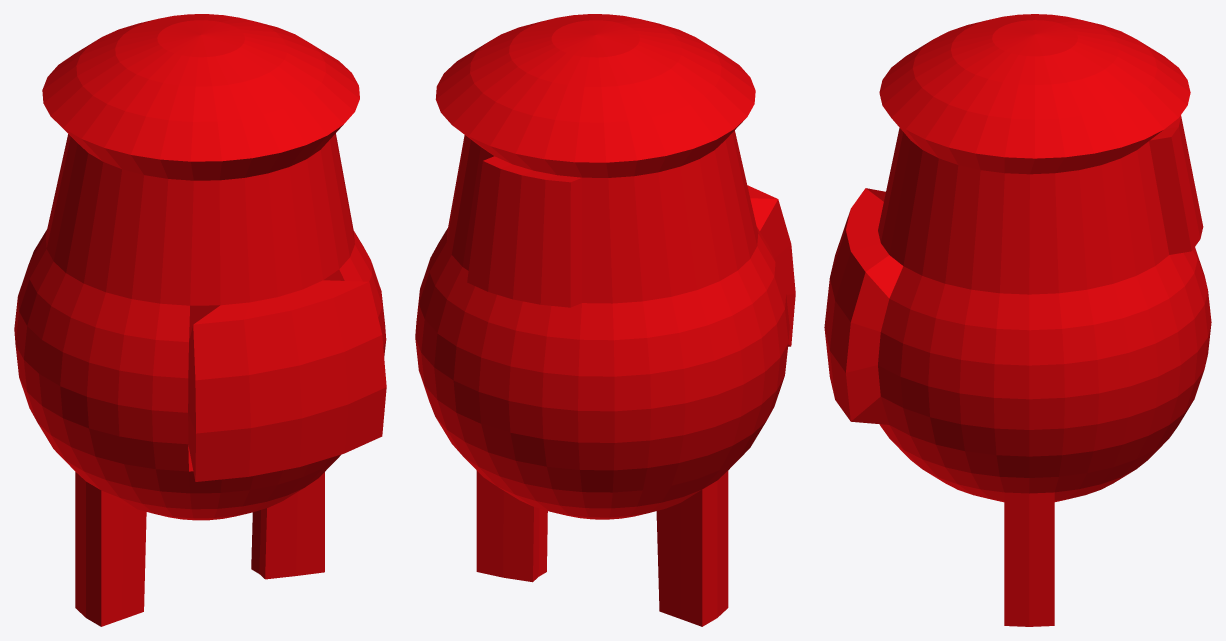
File: tavuk.fbx
3 views of the same model, side by side, from view 1: azimuth 30°, elevation 25°; view 2: azimuth 150°, elevation 25°; view 3: azimuth 270°, elevation 25° (orthographic). The views are drawn at different scales.
Visible parts, largest first — view 1: Sphere; view 2: Sphere; view 3: Sphere.
Part boxes in pixels (left/top/right/bottom): Sphere: left=14, top=14, right=386, bottom=626; Sphere: left=415, top=14, right=795, bottom=626; Sphere: left=824, top=14, right=1211, bottom=626.
Bounding box in the file's own units: 200 × 328 × 212.
